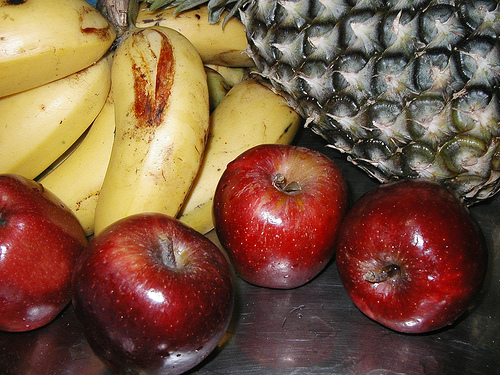pineapple: (146, 1, 499, 205)
